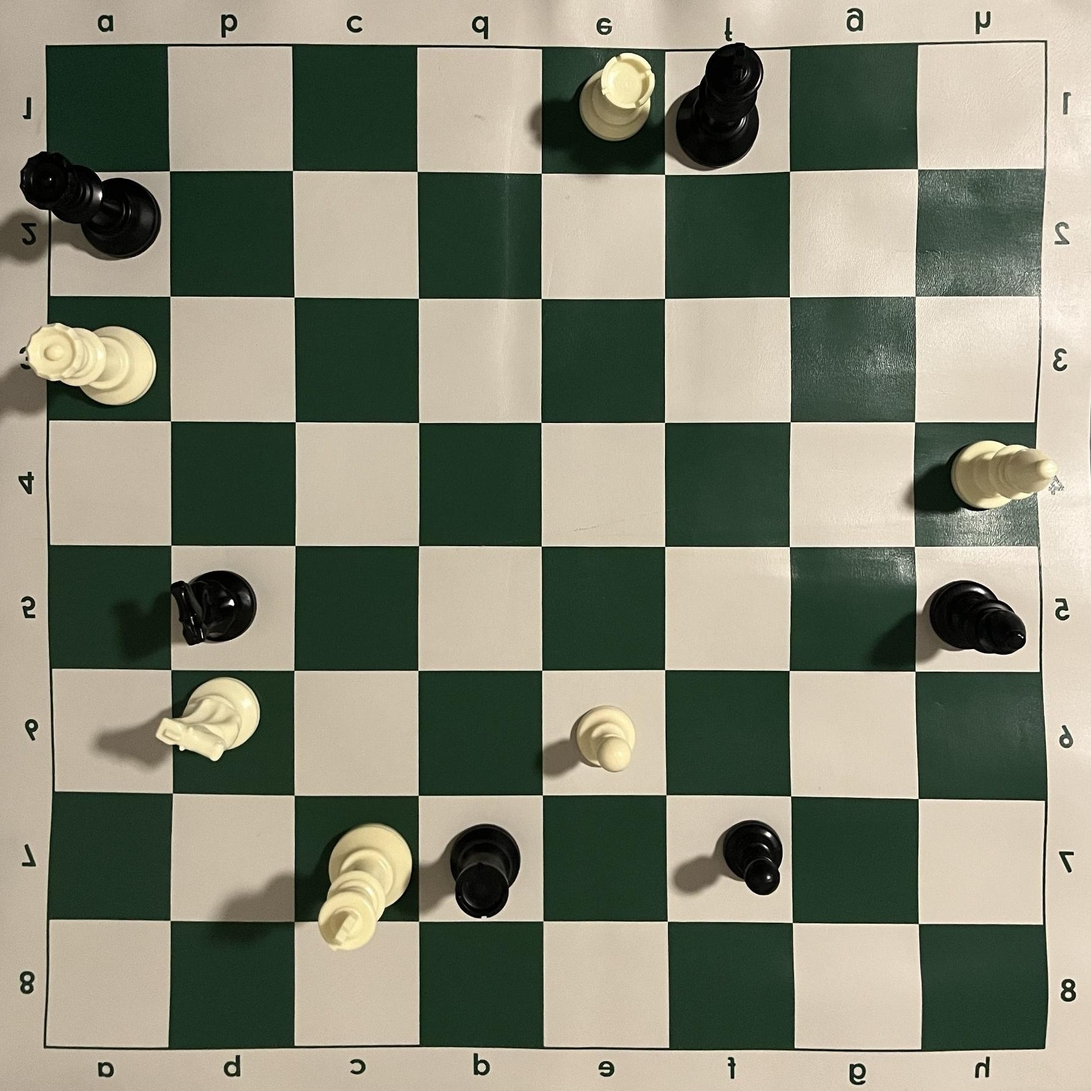black_bishop: (927, 578, 1028, 656)
black_king: (675, 42, 764, 169)
black_knight: (170, 569, 258, 645)
black_pawn: (722, 820, 784, 897)
black_queen: (19, 151, 162, 258)
black_rook: (449, 824, 523, 920)
white_bishop: (948, 439, 1059, 510)
white_king: (317, 823, 414, 954)
white_knight: (156, 675, 263, 762)
white_pawn: (574, 704, 636, 773)
white_queen: (26, 322, 157, 406)
white_rook: (578, 52, 656, 141)
